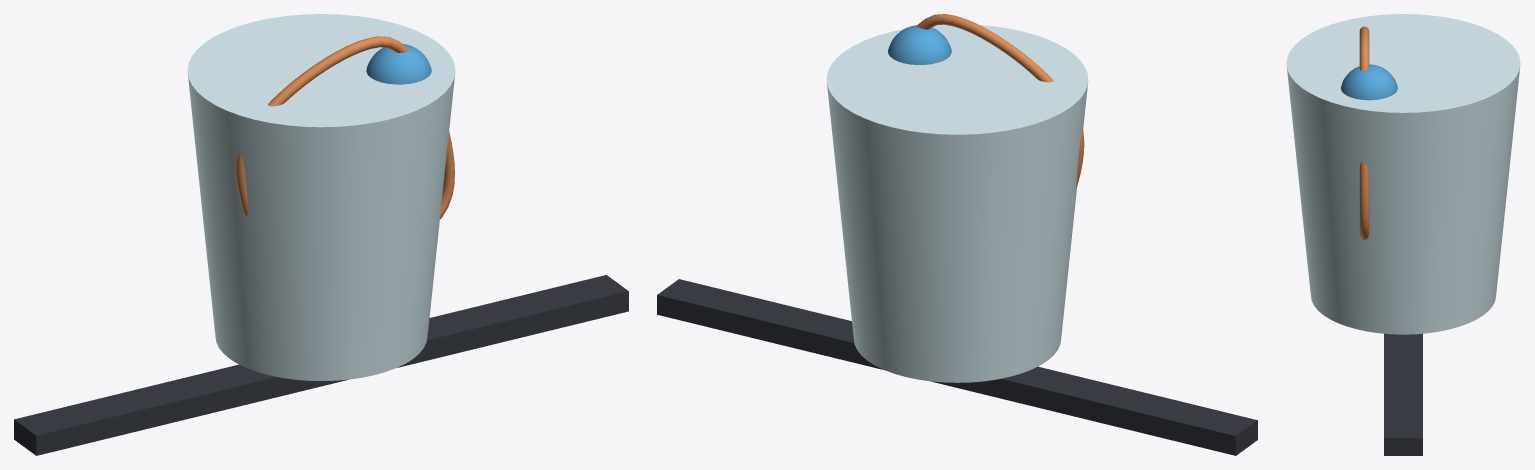
Rendered from physics-p1-convection.glb.
3 views of the same model, side by side, from view 1: azimuth 30°, elevation 25°; view 2: azimuth 150°, elevation 25°; view 3: azimuth 270°, elevation 25° (orthographic). The views are drawn at different scales.
Visible parts, largest first — view 1: warm-fluid-beaker, thermal-bench-reference-base, convection-current-loop, cool-denser-fluid-sinks; view 2: warm-fluid-beaker, thermal-bench-reference-base, cool-denser-fluid-sinks, convection-current-loop; view 3: warm-fluid-beaker, thermal-bench-reference-base, cool-denser-fluid-sinks, convection-current-loop.
Part boxes in pixels (x1,y1,x2,y2): warm-fluid-beaker: [187, 14, 455, 380]; thermal-bench-reference-base: [14, 275, 628, 455]; convection-current-loop: [236, 36, 454, 219]; cool-denser-fluid-sinks: [366, 44, 431, 84]; warm-fluid-beaker: [826, 24, 1088, 382]; thermal-bench-reference-base: [657, 279, 1257, 455]; cool-denser-fluid-sinks: [888, 25, 951, 64]; convection-current-loop: [916, 14, 1084, 187]; warm-fluid-beaker: [1286, 14, 1520, 334]; thermal-bench-reference-base: [1384, 333, 1422, 455]; cool-denser-fluid-sinks: [1341, 64, 1397, 100]; convection-current-loop: [1359, 26, 1369, 240].
Size of what is drawn, in the model's own units: 2.45 by 1.37 by 0.96.
